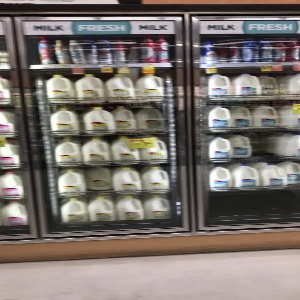void: (206, 192, 300, 220), (250, 132, 284, 159)
